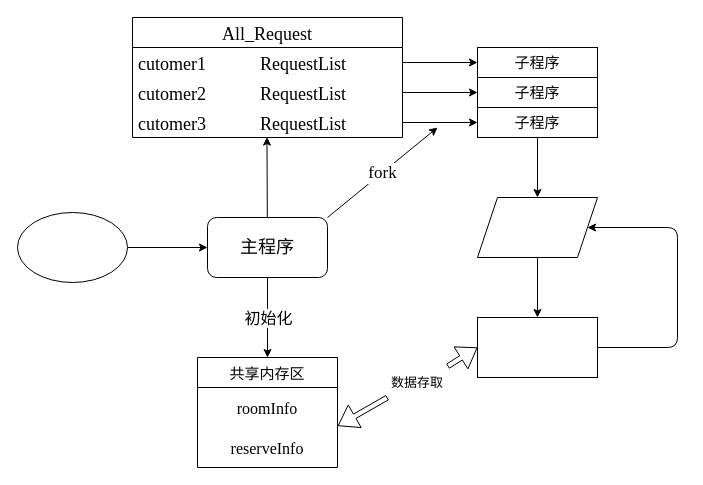
This 703x485 diagram has some shape labels left out. The centre of each missing label's shape, as x and y in pixels:
执行相应函数: point (537, 347)
解析请求: point (537, 227)
输入文件: point (72, 247)
